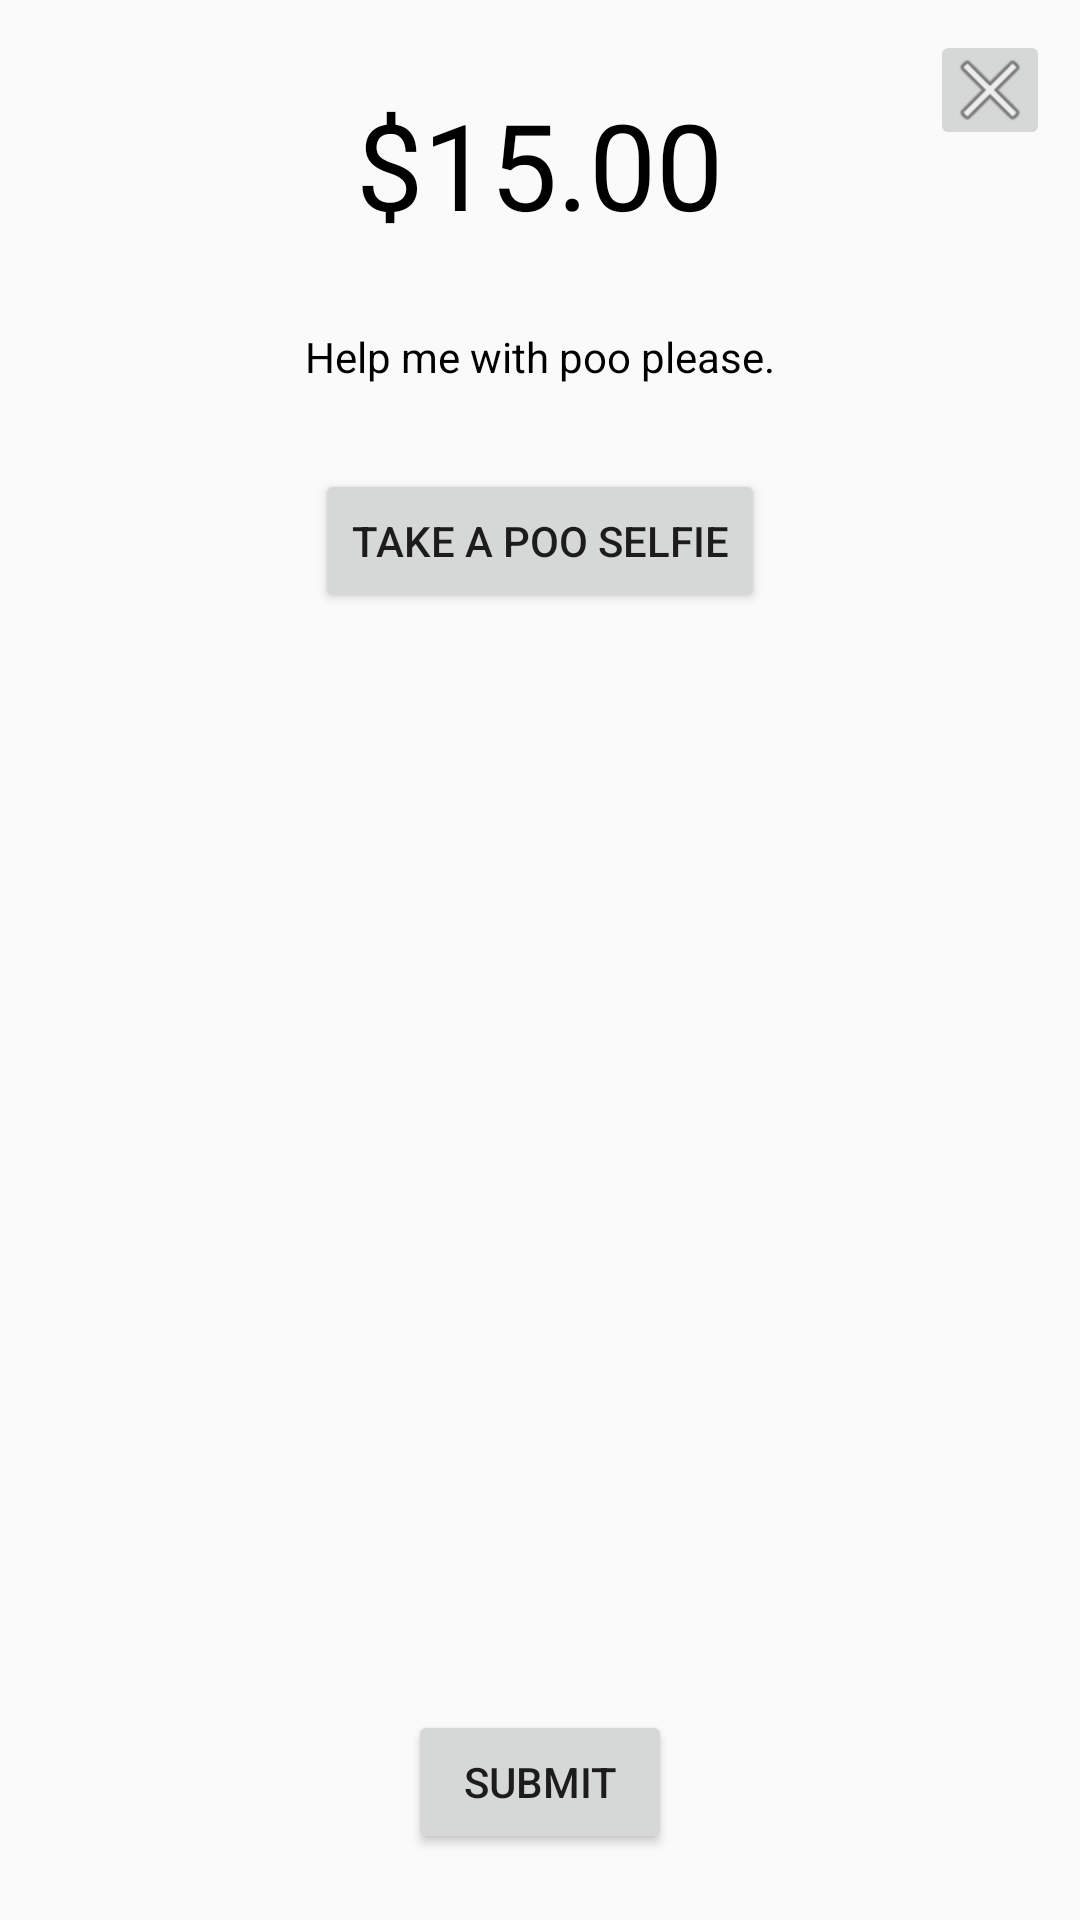

Icon bounding boxes for this 1080×1920 phone screenshot, format rect(x1, y1, x2, y2):
close clear cancel: rect(942, 48, 1038, 132)
